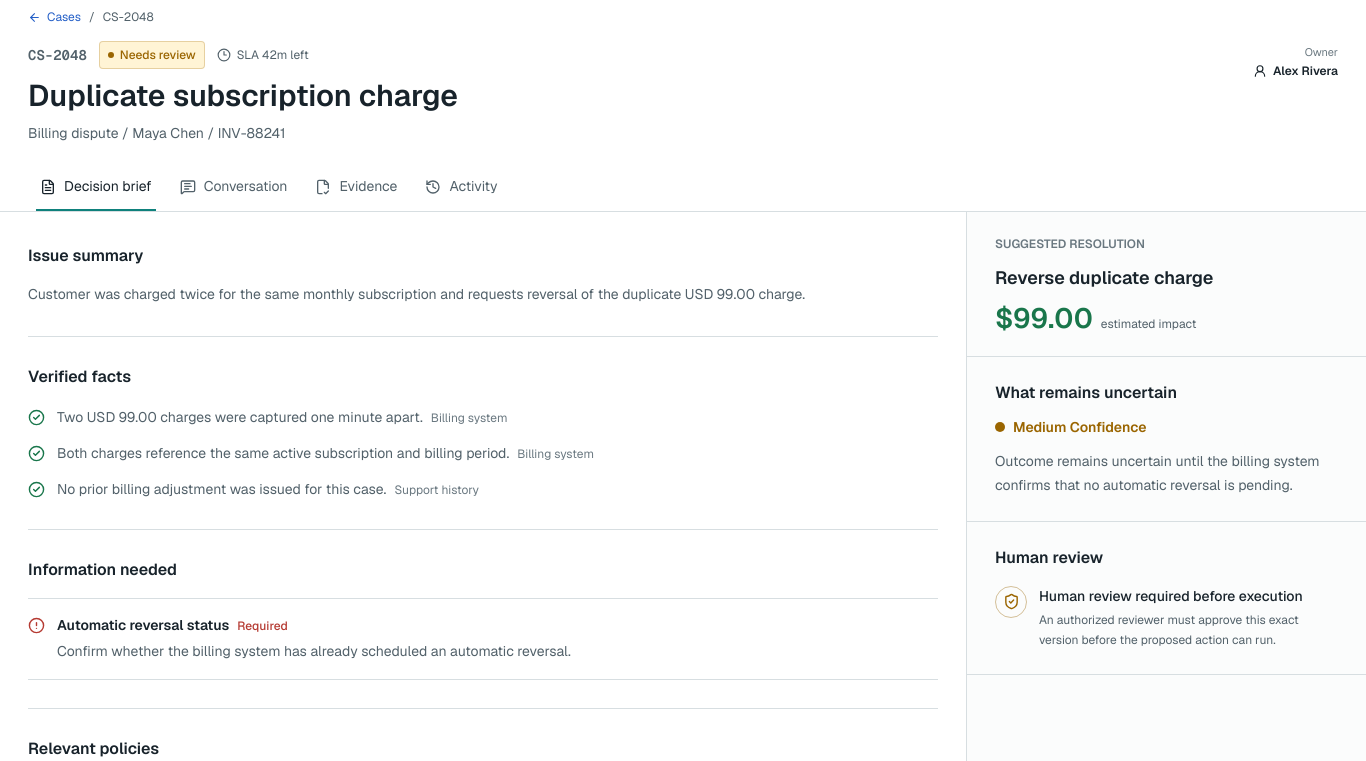
Scenario: CaseWorkspace › records replies and internal notes as separate conversation entries
Step 1. Click the tab "Conversation" → (234, 186), box top-left (168, 162), bottom-right (300, 210)
(page scrolled)
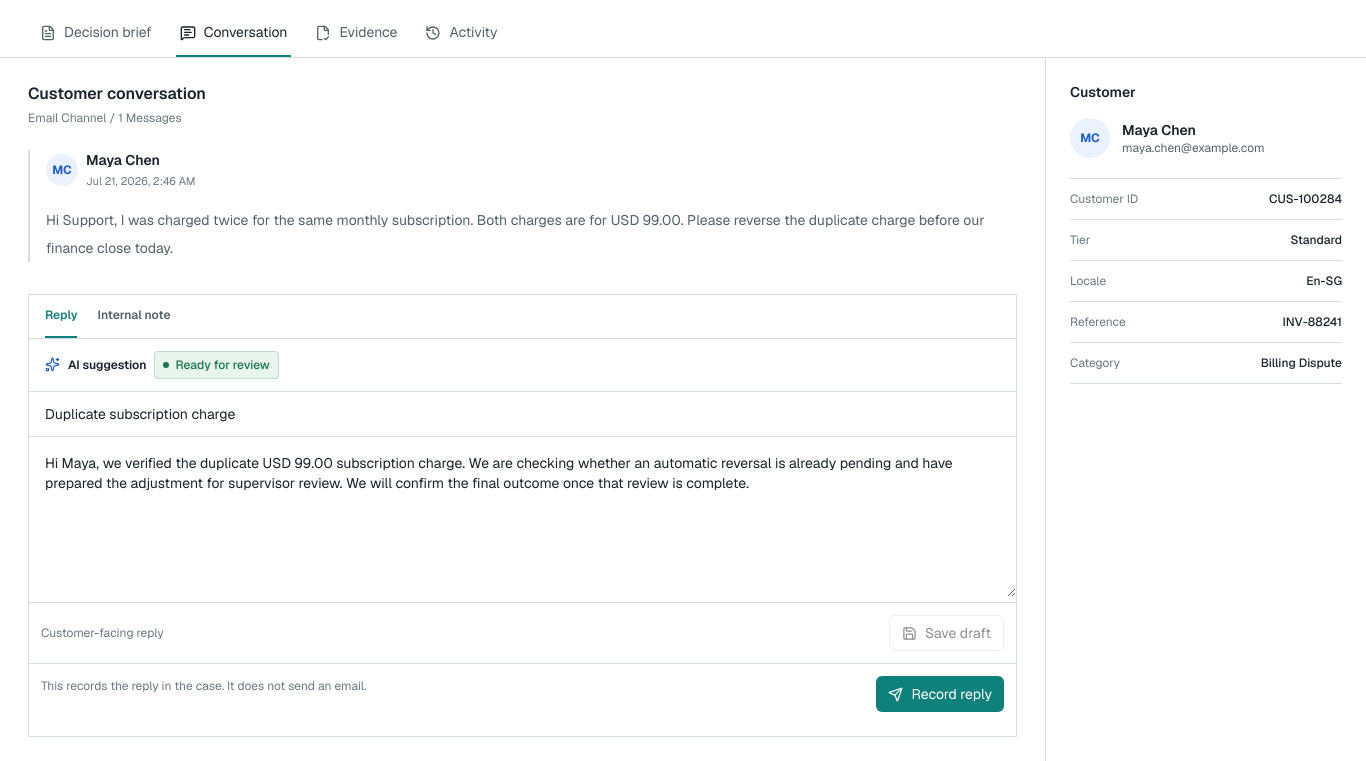
Result: the button "Record reply" is enabled
Result: the text "AI suggestion" is shown at top-left (68, 357), bottom-right (146, 373)
Result: the text "This records the reply in the case. It does not send an email." is shown at top-left (41, 676), bottom-right (367, 696)
Step 2. Click the button "Record reply" → (940, 694), box top-left (876, 676), bottom-right (1004, 712)
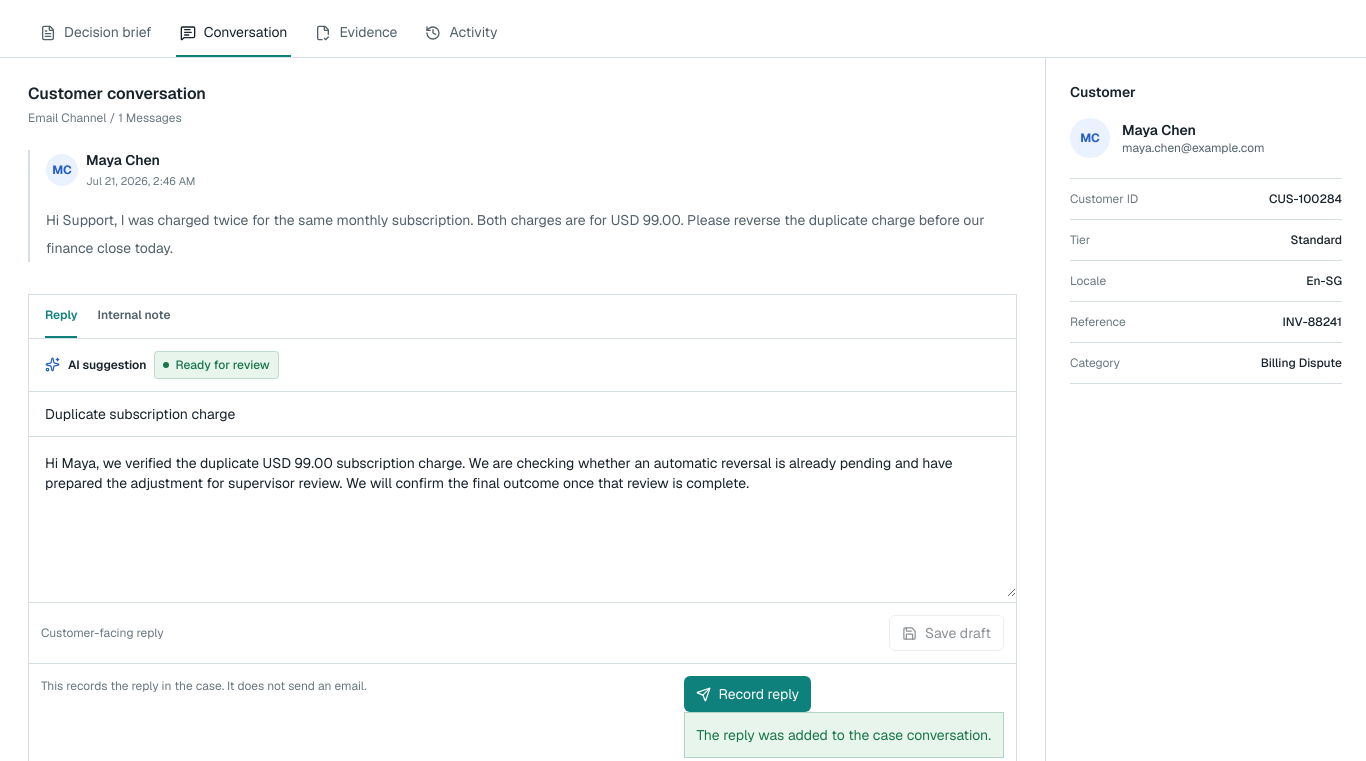
Result: the text "The reply was added to the case conversation." is shown at top-left (696, 725), bottom-right (991, 745)
Step 3. Click the tab "Internal note" → (134, 316), box top-left (98, 294), bottom-right (171, 338)
(page scrolled)
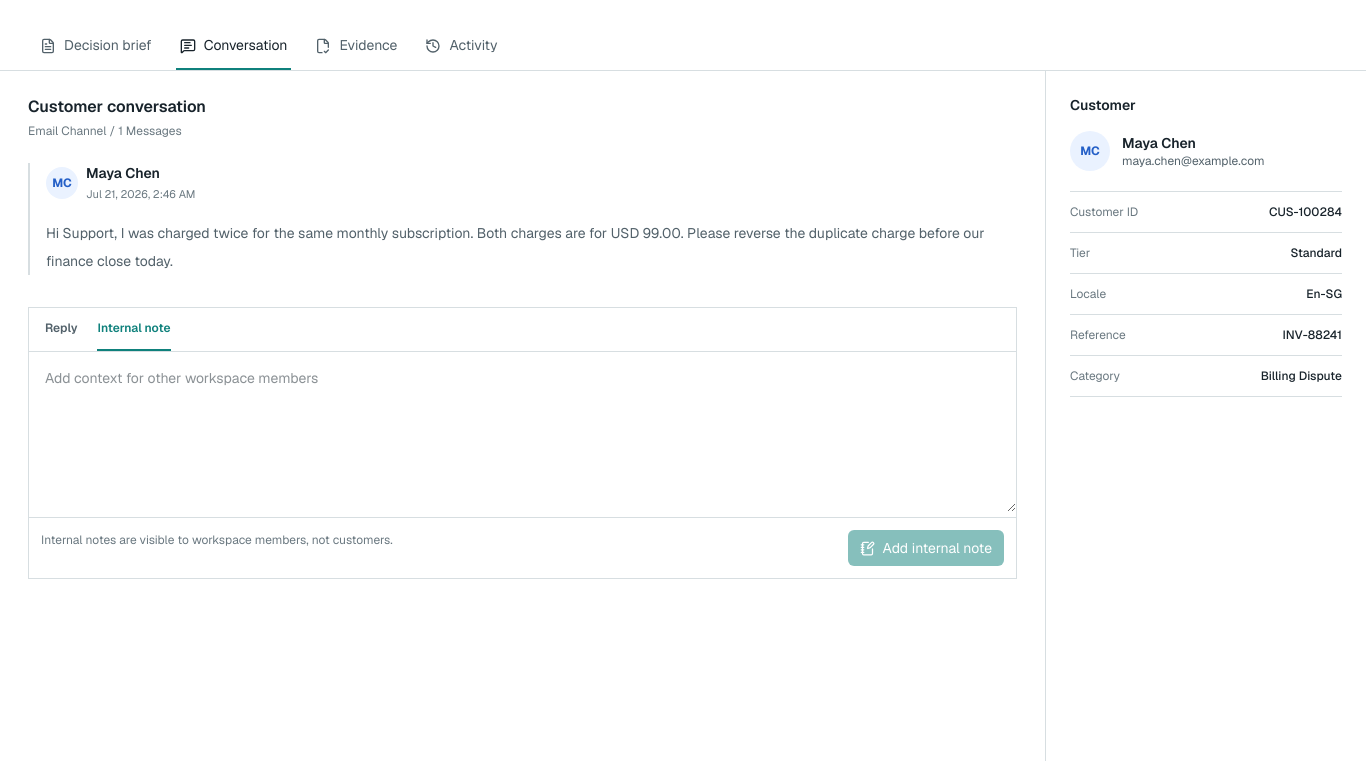
Step 4. Type "Customer identity was verified by phone." into the text box named "Internal note" → (522, 432), box top-left (29, 352), bottom-right (1016, 512)
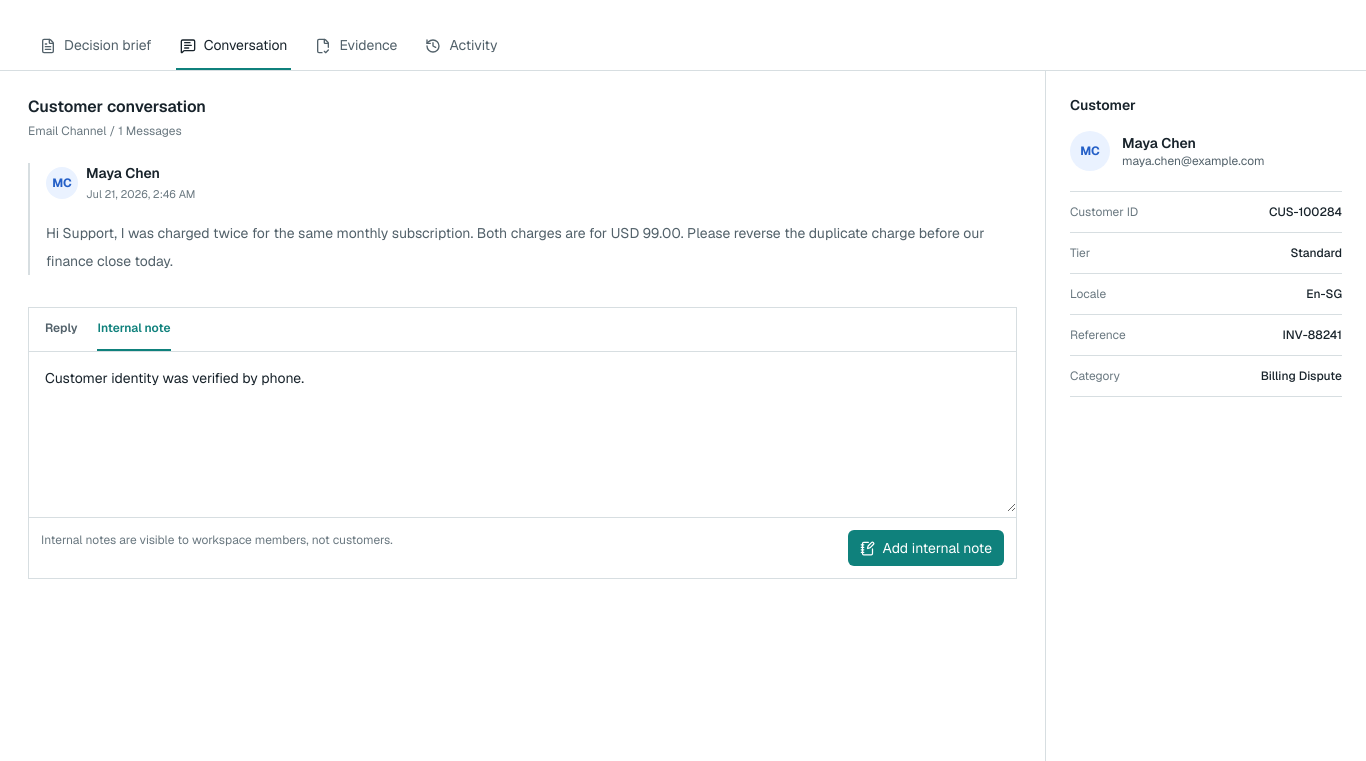
Step 5. Click the button "Add internal note" → (926, 548), box top-left (848, 530), bottom-right (1004, 566)
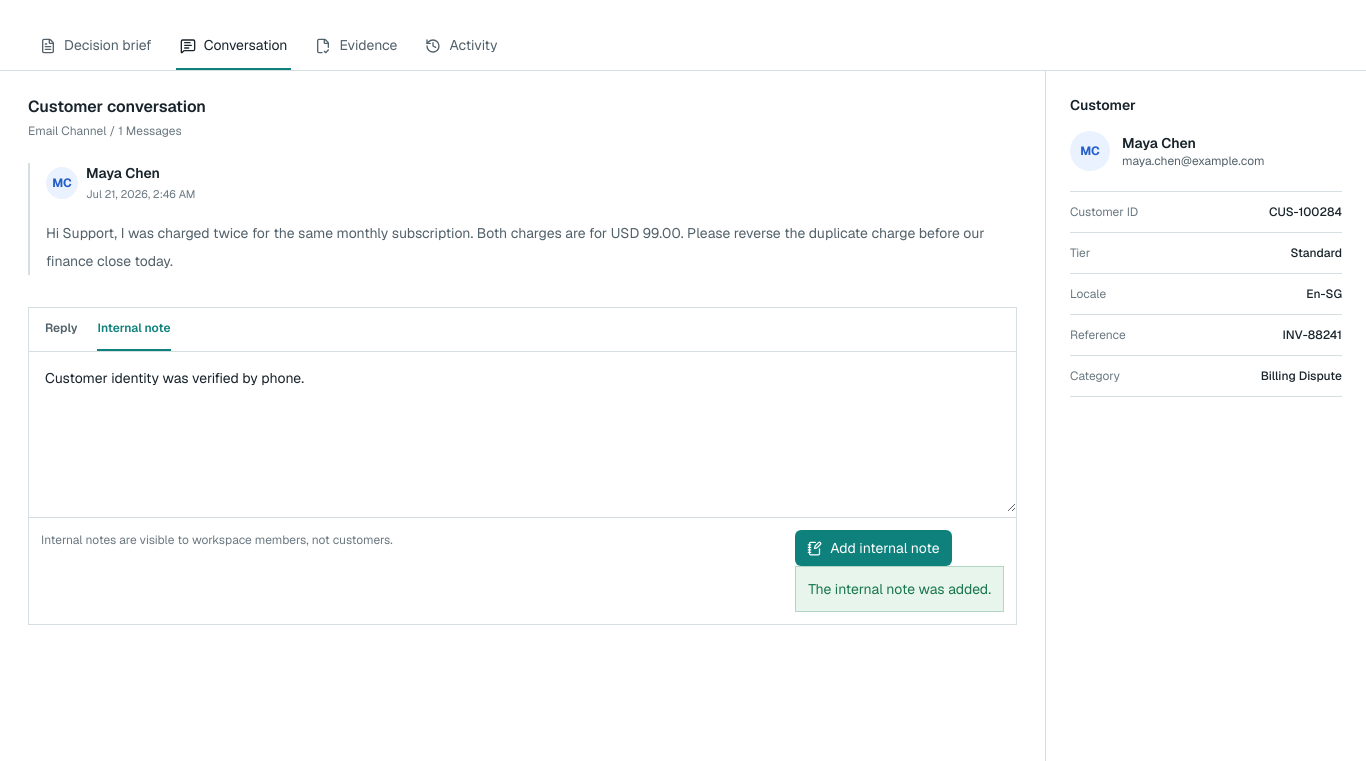
Result: the text "The internal note was added." is shown at top-left (808, 579), bottom-right (991, 599)
